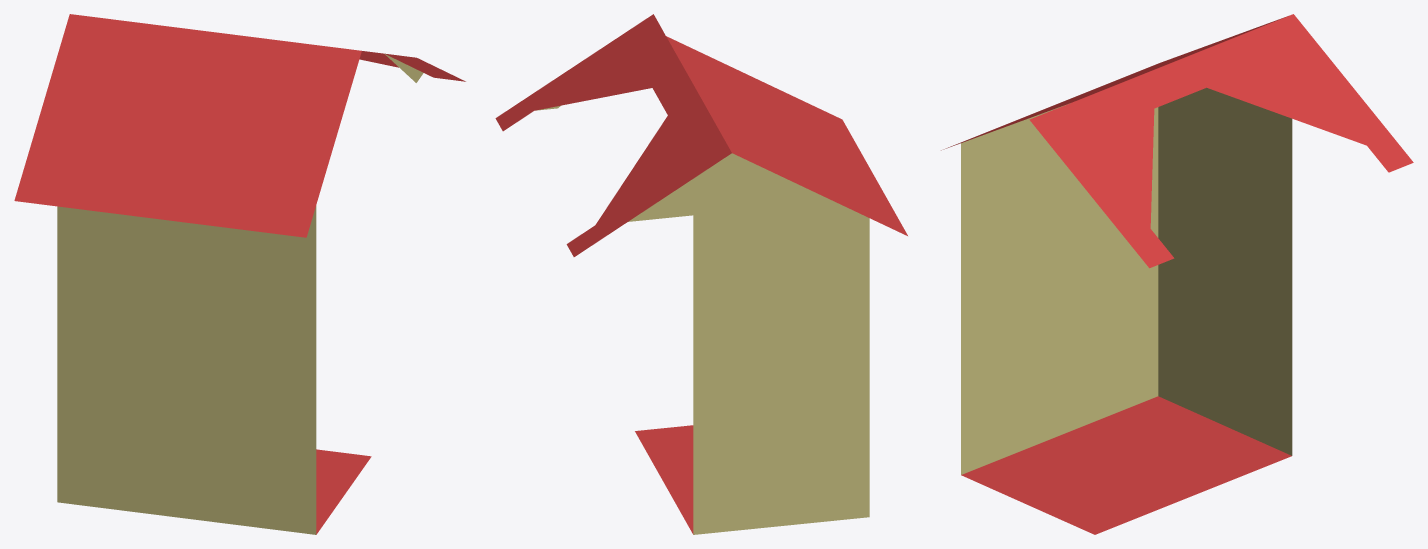
3 renders of one model, left to right at view 1: azimuth 30°, elevation 25°; view 2: azimuth 150°, elevation 25°; view 3: azimuth 270°, elevation 25°, orthographic. The views are drawn at different scales.
Bounding box in the file's own units: 11.25 × 10.34 × 10.08.
